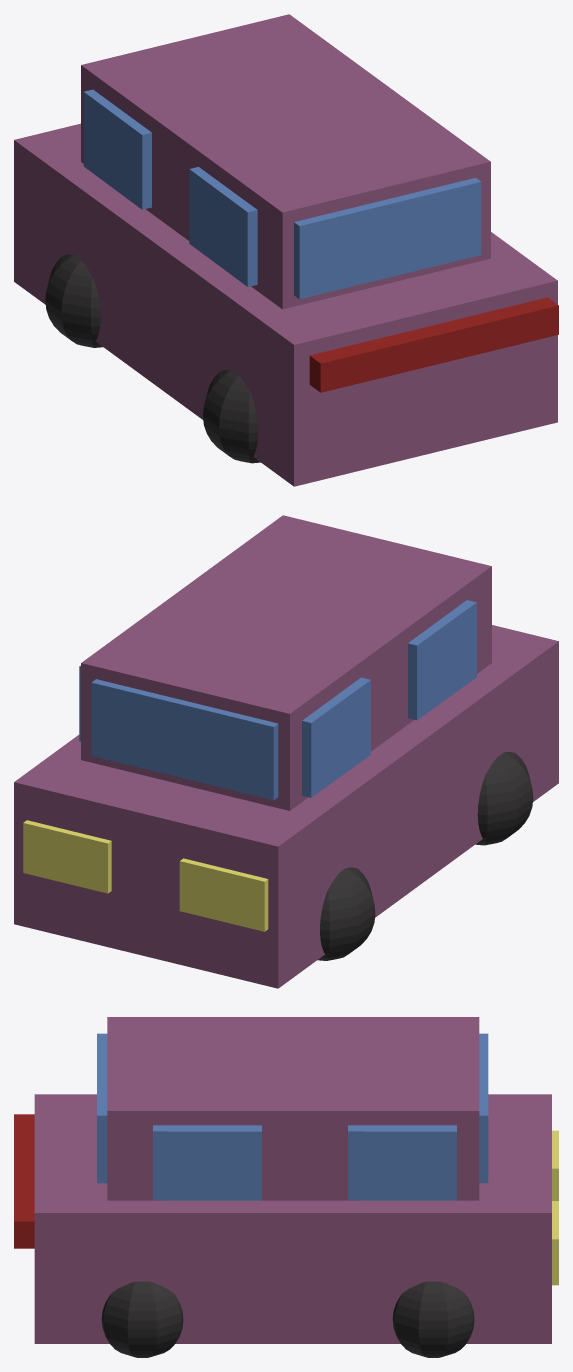
File: car6.fbx
3 views of the same model, one above another, from view 1: azimuth 30°, elevation 25°; view 2: azimuth 150°, elevation 25°; view 3: azimuth 270°, elevation 25° (orthographic). The views are drawn at different scales.
Visible parts, largest first — view 1: Cube.009, Cube.010, Cube.016, Cube.019, Cube.013, Cube.014, Sphere.008, Sphere.009; view 2: Cube.009, Cube.010, Cube.015, Cube.013, Cube.014, Cube.018, Cube.017, Sphere.009, Sphere.008; view 3: Cube.009, Cube.010, Cube.011, Cube.012, Sphere.006, Sphere.007, Cube.019, Cube.016, Cube.015, Cube.017, Cube.018.
Part boxes in pixels (x1,y1,x2,y2): Cube.009: (14,123,557,486); Cube.010: (81,14,490,309); Cube.016: (294,177,481,299); Cube.019: (309,297,558,392); Cube.013: (83,89,151,209); Cube.014: (189,167,257,286); Sphere.008: (203,369,260,463); Sphere.009: (45,254,102,347); Cube.009: (14,625,558,988); Cube.010: (81,515,491,810); Cube.015: (91,679,278,800); Cube.013: (302,677,370,797); Cube.014: (408,600,476,720); Cube.018: (179,858,268,931); Cube.017: (23,820,111,893); Sphere.009: (317,867,375,960); Sphere.008: (475,751,533,845); Cube.009: (34,1094,551,1343); Cube.010: (107,1017,479,1200); Cube.011: (348,1125,456,1200); Cube.012: (153,1125,261,1200); Sphere.006: (101,1281,183,1357); Sphere.007: (392,1281,474,1357); Cube.019: (14,1114,34,1248); Cube.016: (97,1033,107,1183); Cube.015: (479,1033,488,1183); Cube.017: (552,1201,558,1285); Cube.018: (552,1130,558,1200).
Bounding box in the file's own units: 166 × 132 × 273.
